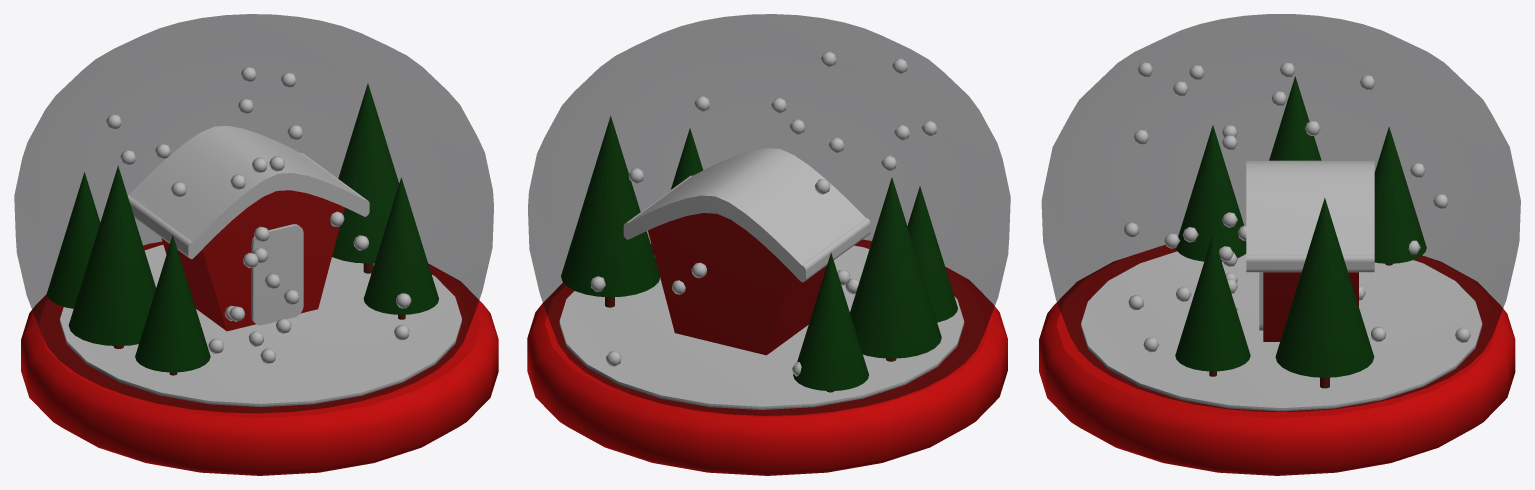
The model's file is Christmas balls.FBX.
The picture shows the model from 3 angles, left to right: view 1: azimuth 30°, elevation 25°; view 2: azimuth 150°, elevation 25°; view 3: azimuth 270°, elevation 25°; orthographic projection.
Visible parts, largest first — view 1: Sphere02, Cylinder01, Cylinder03, Rectangle0, Rectangle1, Cone01, Cone06, Cone04, Cone03, Rectangle2, Cone05; view 2: Sphere02, Cylinder01, Cylinder03, Rectangle1, Rectangle0, Cone01, Cone06, Cone05, Cone04, Cone03; view 3: Sphere02, Cylinder01, Cylinder03, Rectangle0, Cone06, Cone03, Cone04, Cone05, Cone01, Rectangle1.
Part boxes in pixels (box(x1,y1,x2,y2)): Sphere02: box(14, 14, 493, 413); Cylinder01: box(21, 241, 498, 475); Cylinder03: box(60, 245, 461, 406); Rectangle0: box(127, 126, 369, 259); Rectangle1: box(161, 190, 344, 331); Cone01: box(68, 165, 155, 345); Cone06: box(332, 83, 399, 263); Cone04: box(135, 235, 210, 372); Cone03: box(363, 177, 438, 314); Rectangle2: box(251, 224, 303, 325); Cone05: box(46, 172, 100, 308); Sphere02: box(528, 14, 1010, 415); Cylinder01: box(527, 239, 1007, 475); Cylinder03: box(559, 245, 964, 409); Rectangle1: box(648, 213, 826, 355); Rectangle0: box(623, 148, 870, 282); Cone01: box(850, 177, 941, 358); Cone06: box(561, 116, 659, 297); Cone05: box(793, 252, 868, 390); Cone04: box(907, 186, 957, 322); Cone03: box(652, 128, 702, 253); Sphere02: box(1041, 14, 1520, 411); Cylinder01: box(1039, 245, 1515, 475); Cylinder03: box(1081, 251, 1482, 411); Rectangle0: box(1246, 160, 1374, 272); Cone06: box(1275, 198, 1374, 377); Cone03: box(1175, 234, 1250, 371); Cone04: box(1176, 125, 1246, 261); Cone05: box(1374, 126, 1426, 263); Cone01: box(1269, 76, 1321, 160); Rectangle1: box(1263, 272, 1358, 341).
Bounding box in the file's own units: 5.76 × 4.39 × 5.76.
